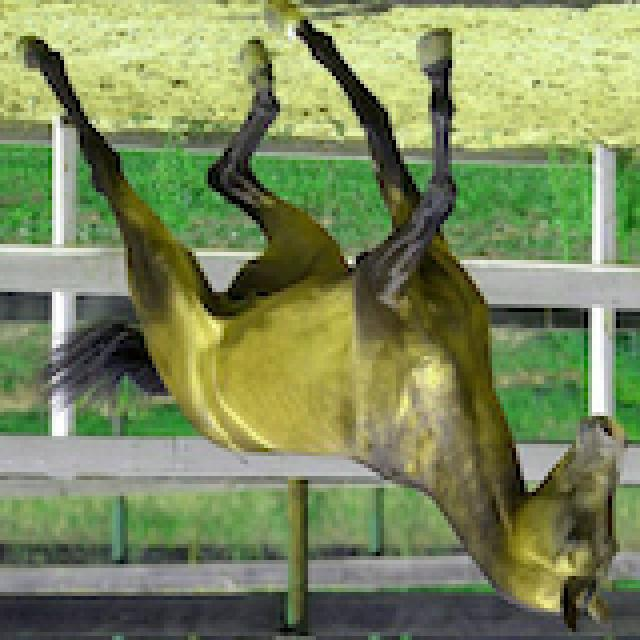Horse: (8, 4, 636, 640)
